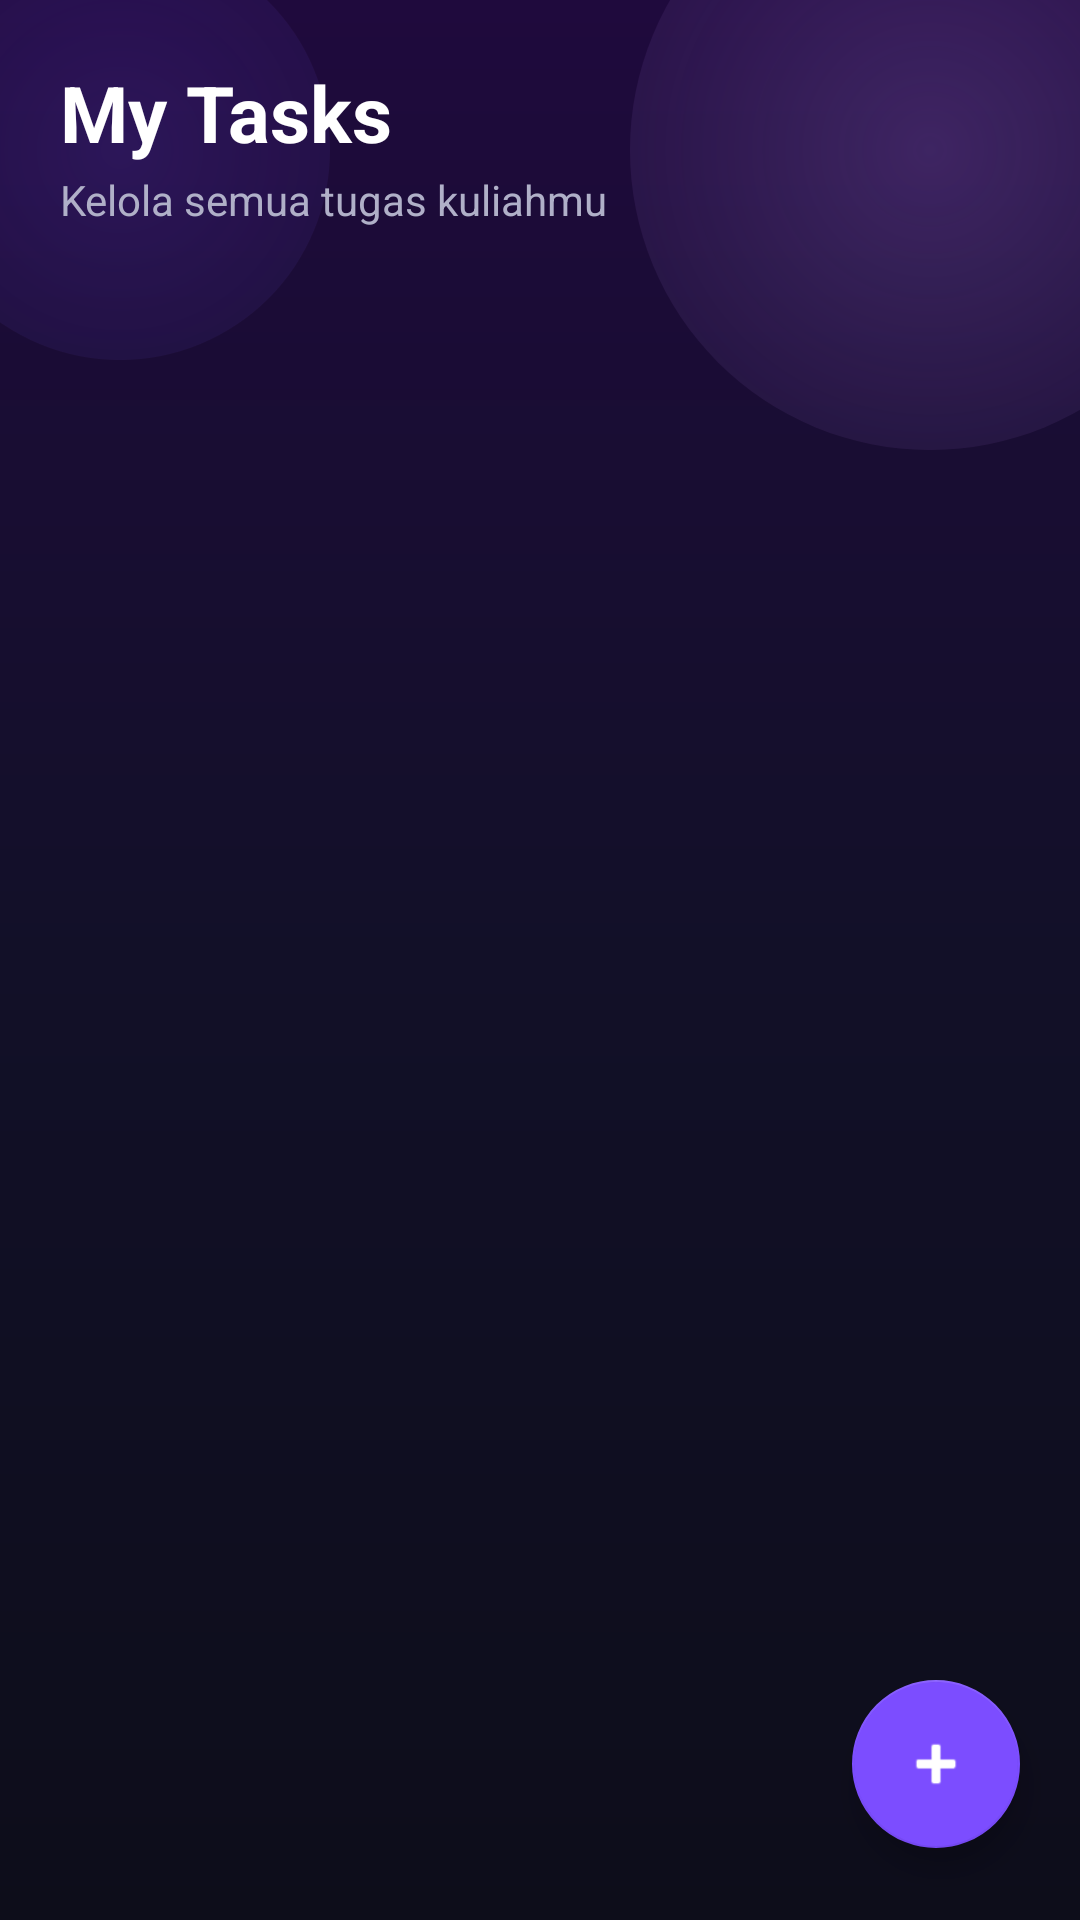

Icon click points for this 1080×1920 phone screenshot, format (x=x, y=y):
add: (x=936, y=1764)
